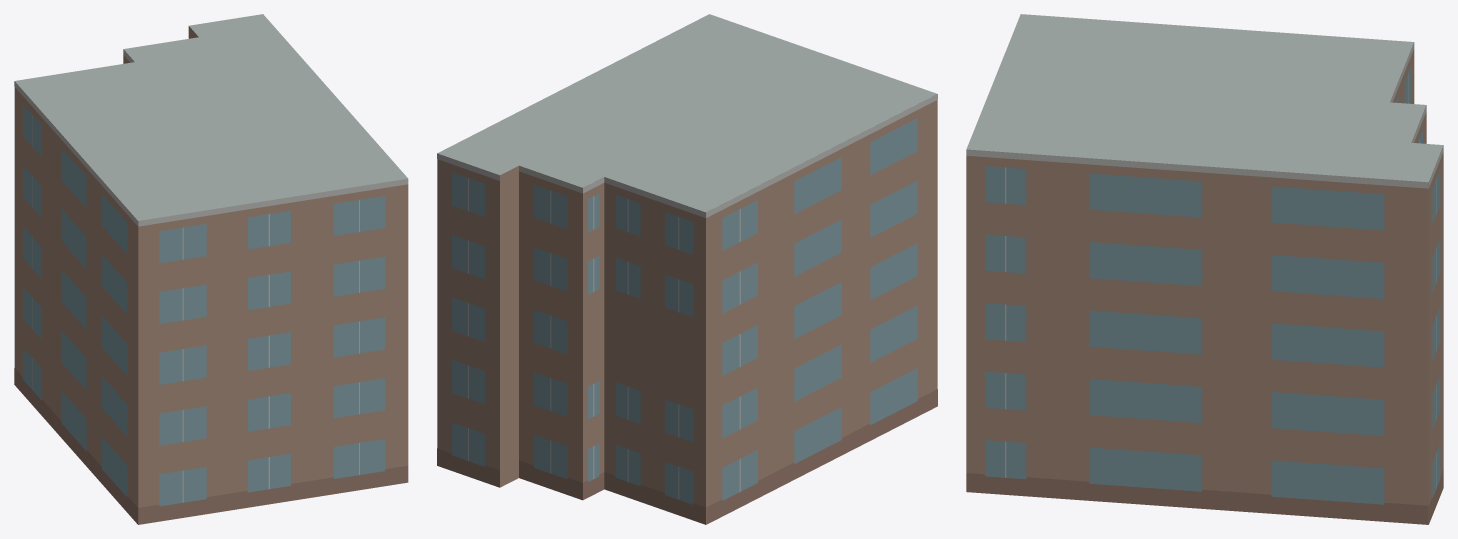
The model's file is survey-upis-32624919.glb.
The picture shows the model from 3 angles, left to right: view 1: azimuth 30°, elevation 25°; view 2: azimuth 150°, elevation 25°; view 3: azimuth 270°, elevation 25°; orthographic projection. The views are drawn at different scales.
Visible parts, largest first — view 1: survey-upis-32624919.tmp; view 2: survey-upis-32624919.tmp; view 3: survey-upis-32624919.tmp.
Boxes of the visible parts, <box> form: survey-upis-32624919.tmp: <box>14,14,408,524</box>; survey-upis-32624919.tmp: <box>437,14,937,524</box>; survey-upis-32624919.tmp: <box>966,14,1443,524</box>.
Size of the model in its own units: 14.02 by 13.3 by 16.81.
